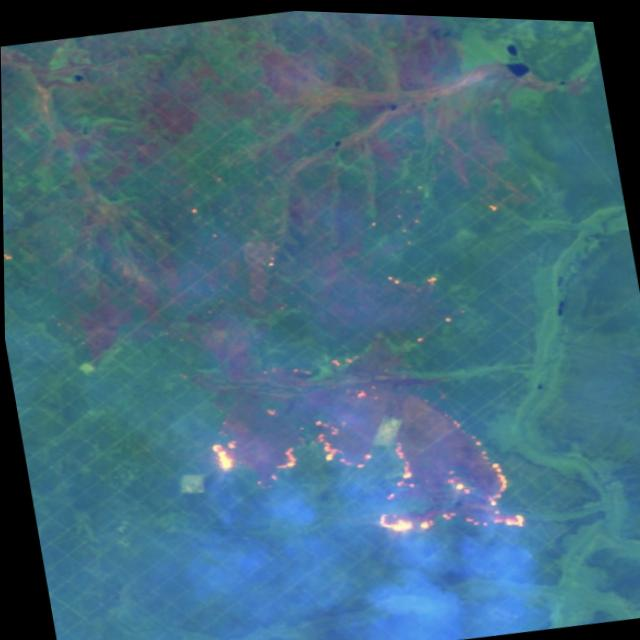fire: (192, 357, 537, 575)
